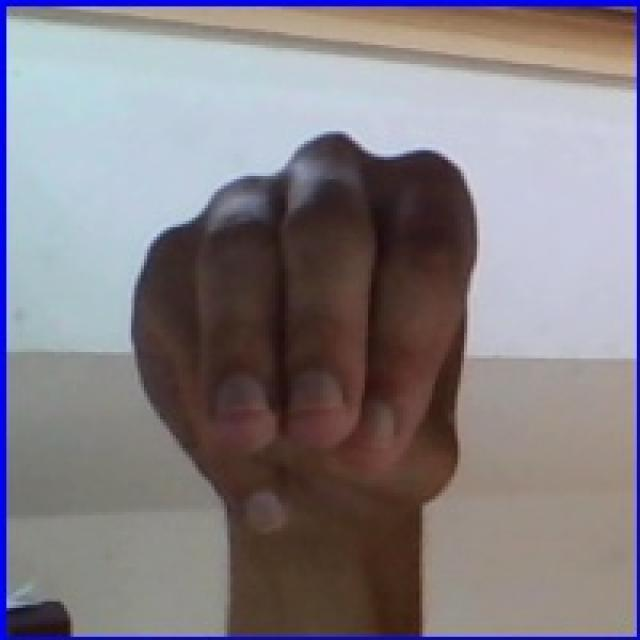Letra M: (109, 108, 506, 586)
